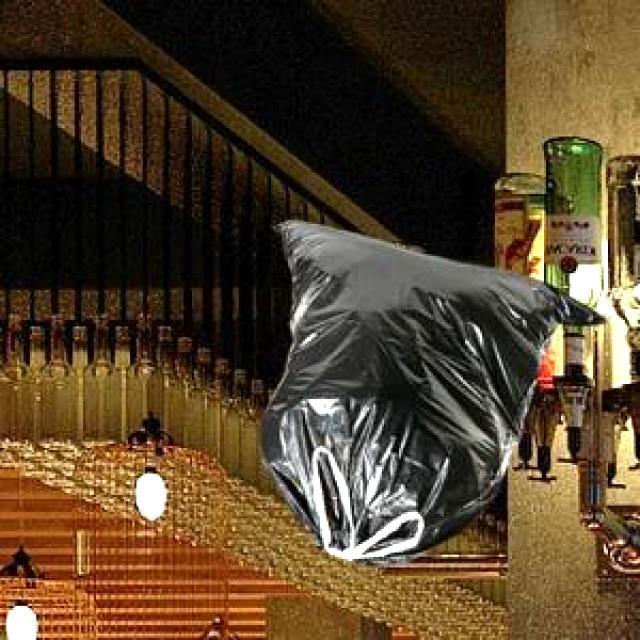Garbage_Bag: (255, 217, 603, 562)
